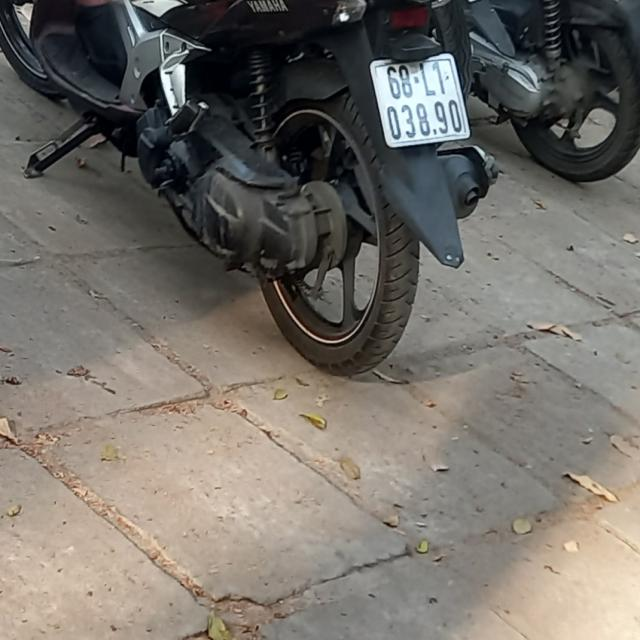0: (387, 105, 402, 140), (449, 99, 463, 134)
1: (432, 60, 446, 95)
3: (401, 104, 416, 139)
6: (386, 64, 400, 102)
8: (398, 64, 414, 98), (416, 103, 431, 136)
9: (432, 100, 450, 133)
L: (418, 61, 436, 95)
